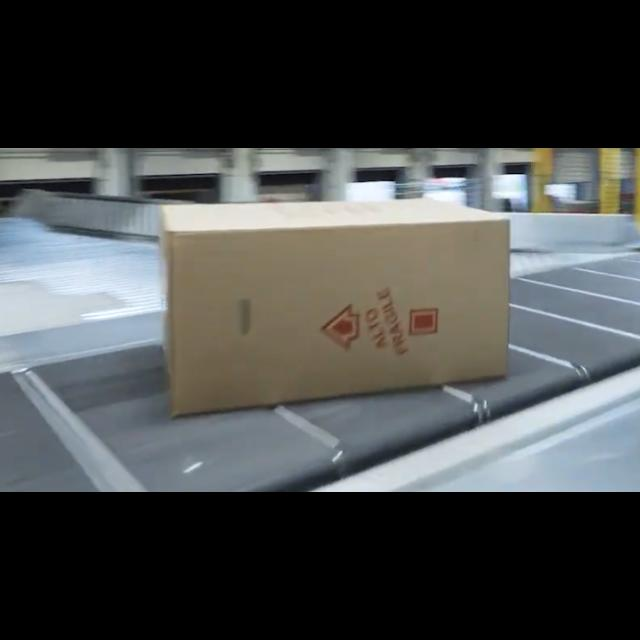box: (158, 200, 512, 416)
